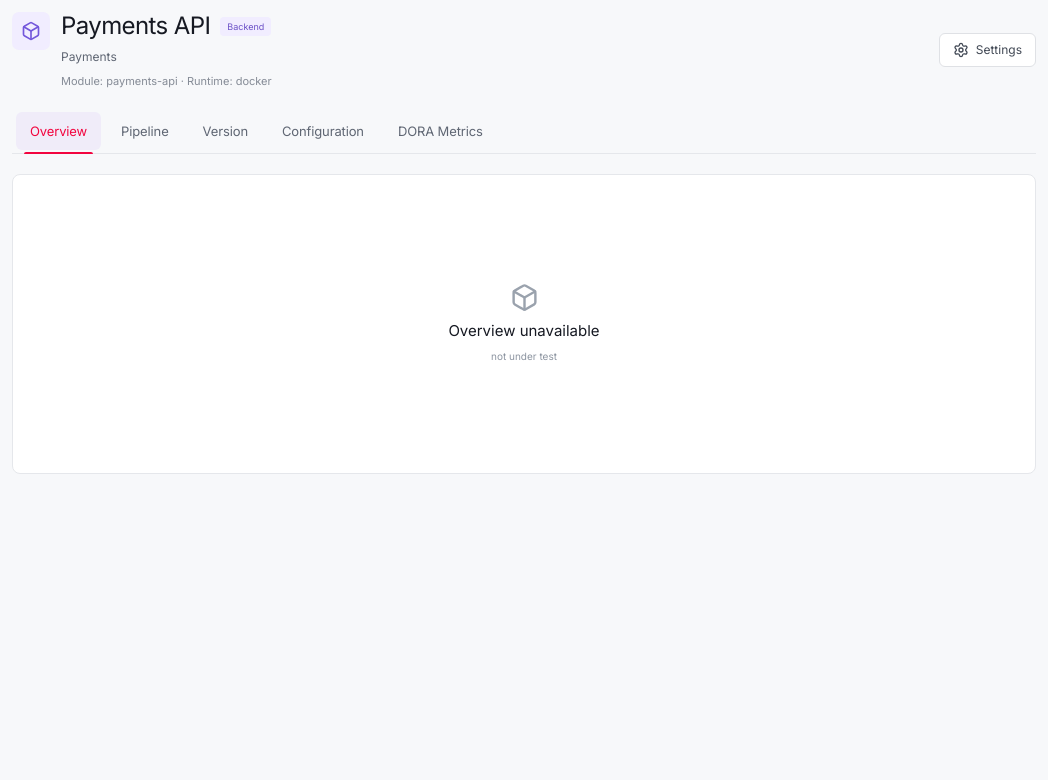
Test case: admission and supersession in the portal (ADR-050) › labels the waiting run on its environment card and not as running
The image size is (1048, 780).
Check: the heading "Payments API" is shown, box [61,12,210,41]
Click the tab "Pipeline".
click(145, 131)  # box [107,112,183,150]
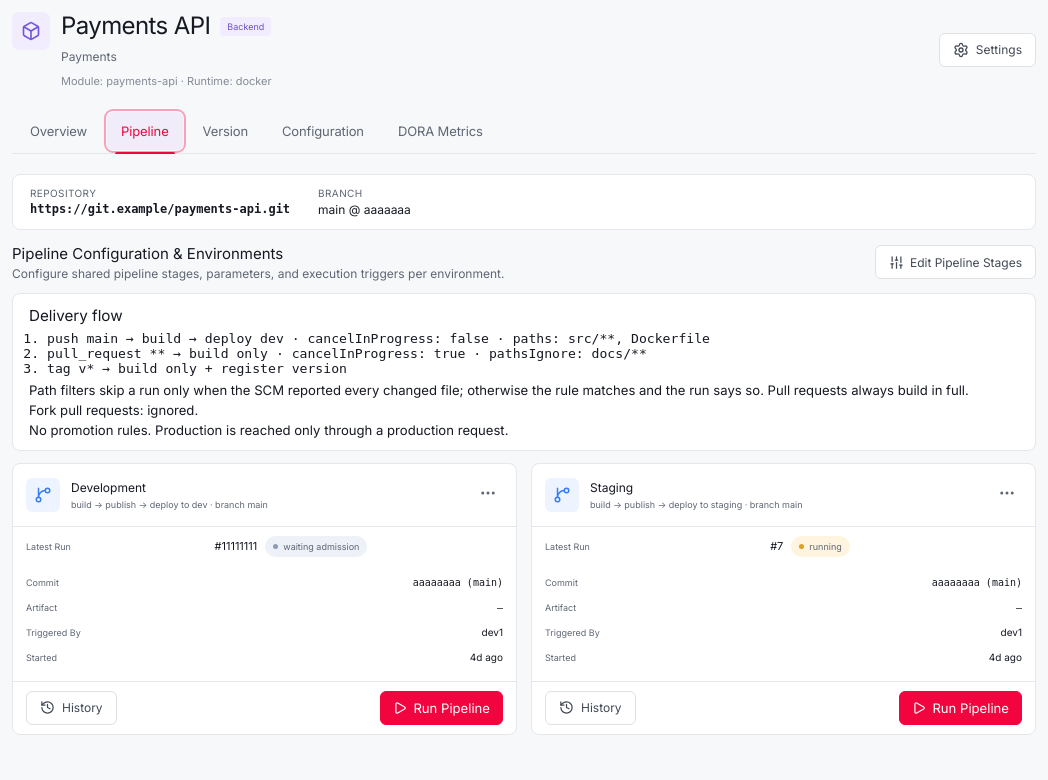
Check: the heading "Development" does not show "running"
Check: the text "waiting admission" is shown, box [265,536,367,557]
